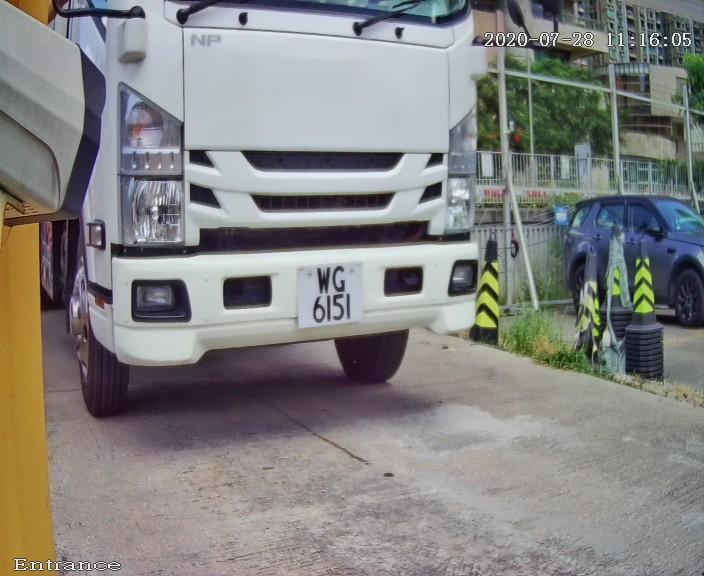vehicle_m: (57, 1, 509, 424)
